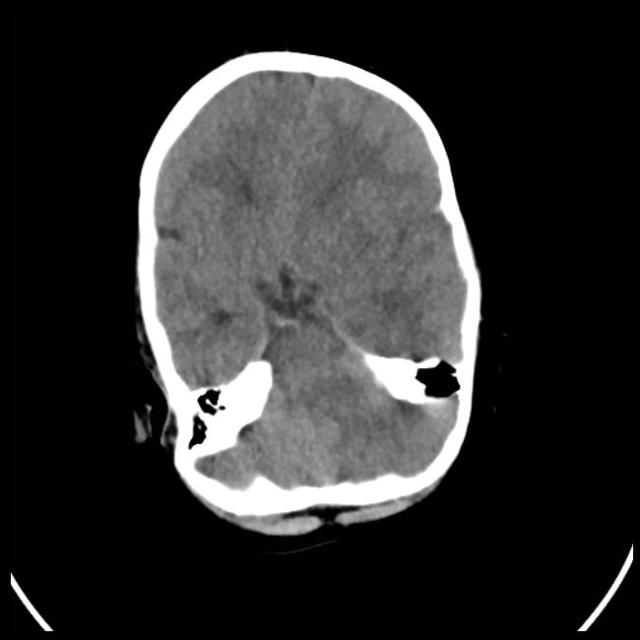lesion: (129, 48, 488, 541)
